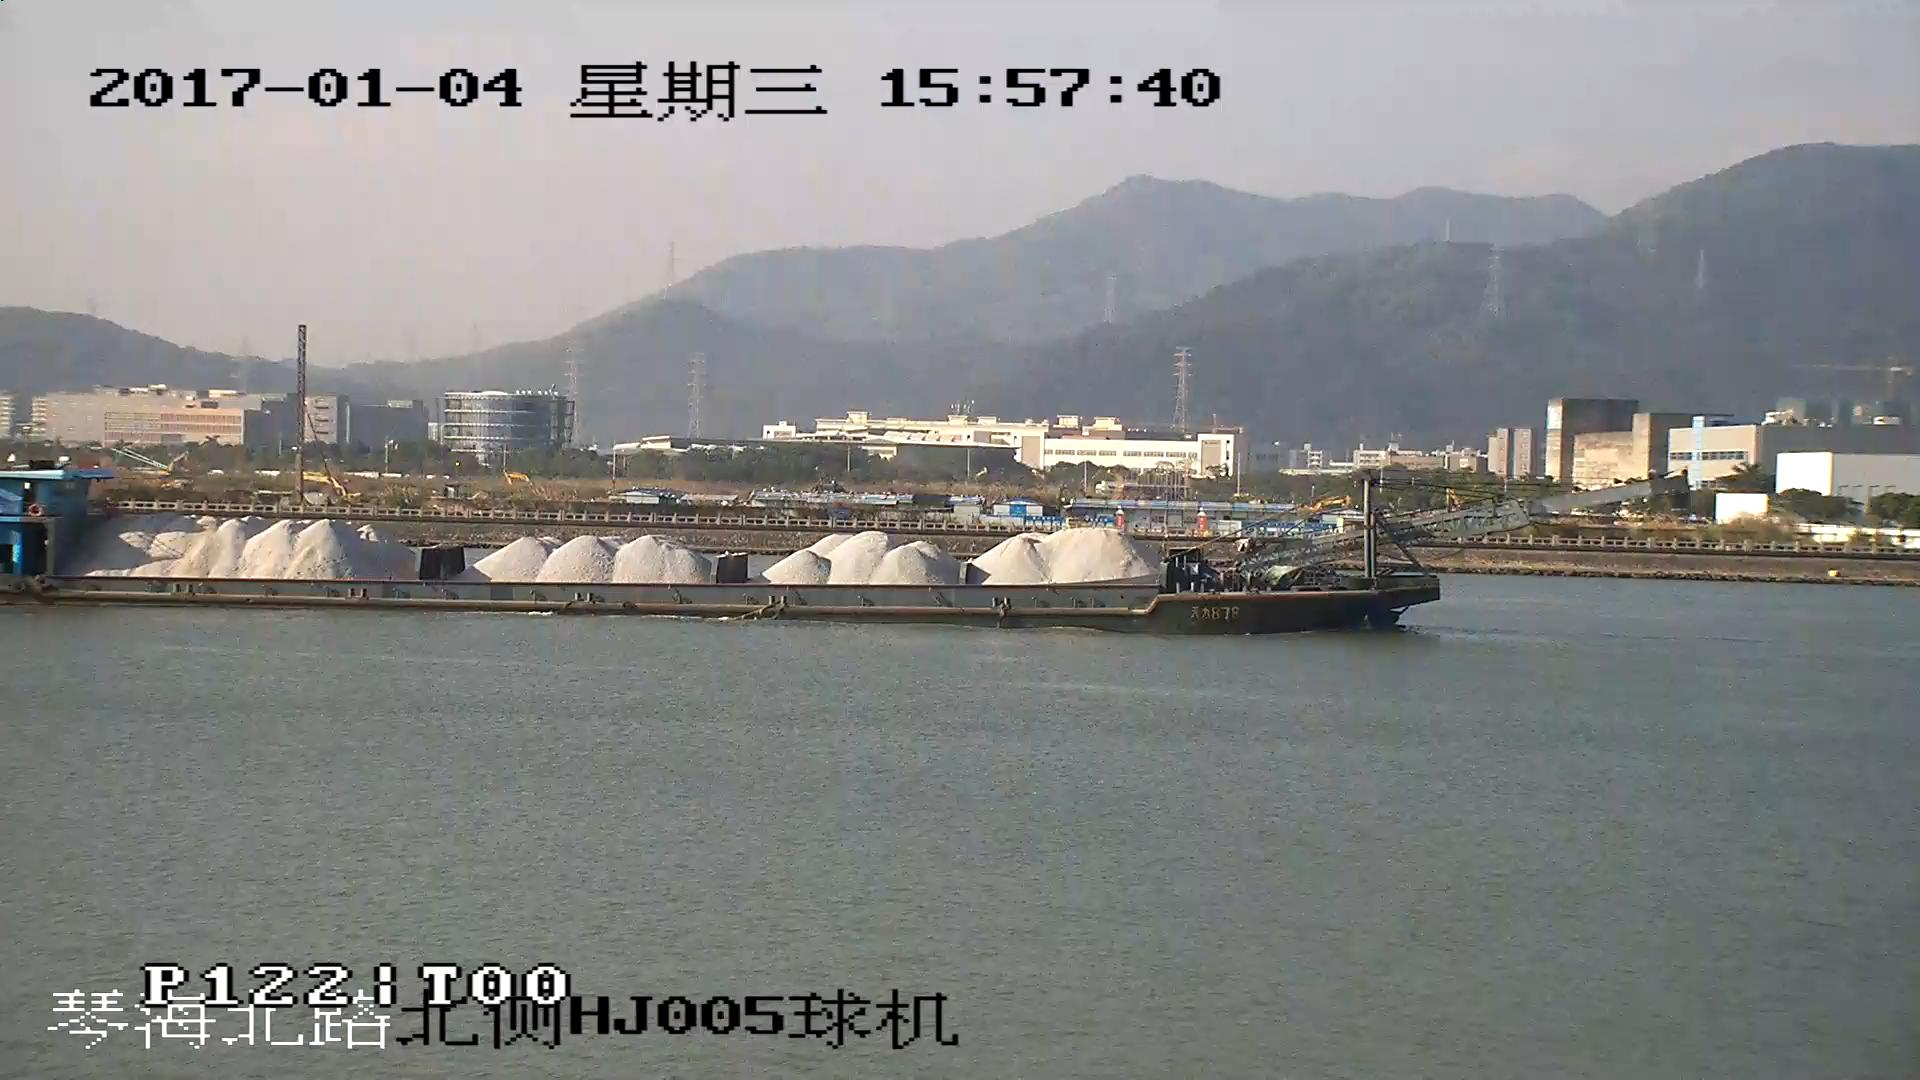ore carrier: (1, 471, 1672, 631)
